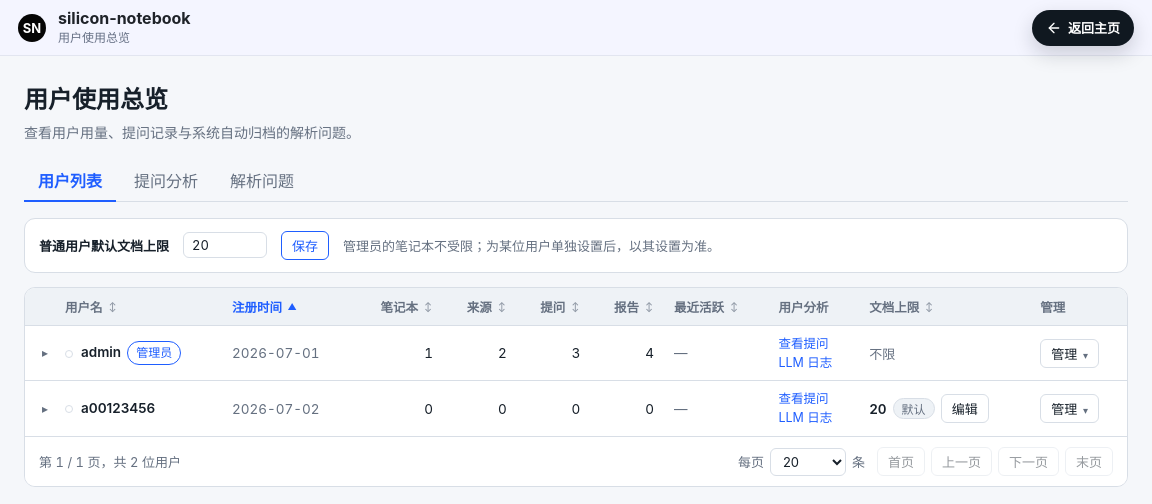
it: 管理员可保存普通用户默认文档上限
Expected: the text "a00123456" is shown, [81,400,155,416]
Replace the text in the number field labelled "普通用户默认文档上限" with "35" at [225, 245], box [183,232,267,258]
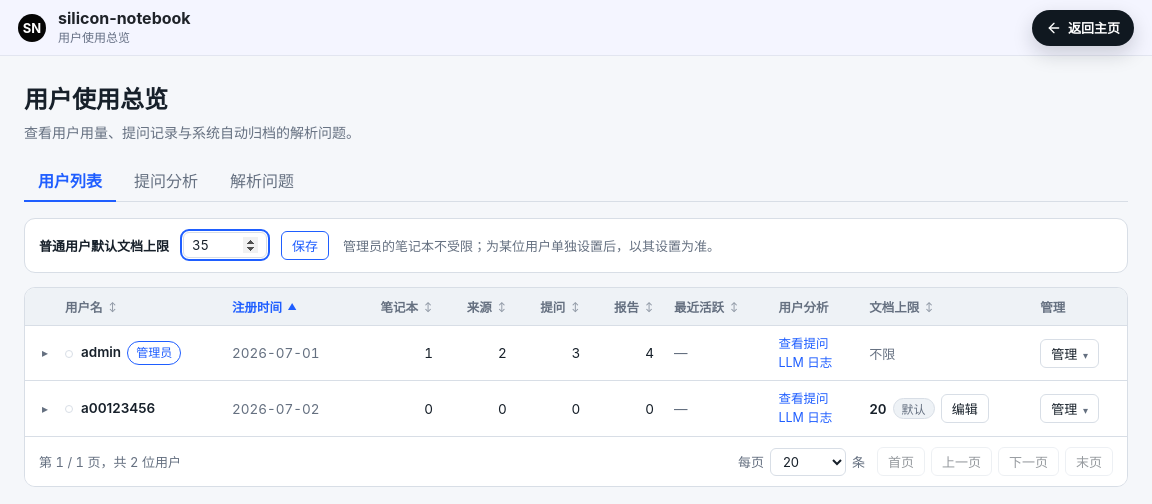
# 无行处于编辑态时,页面上唯一的「保存」就是默认上限控件。
Click the button "保存" at [305, 245], box [281,231,329,260]
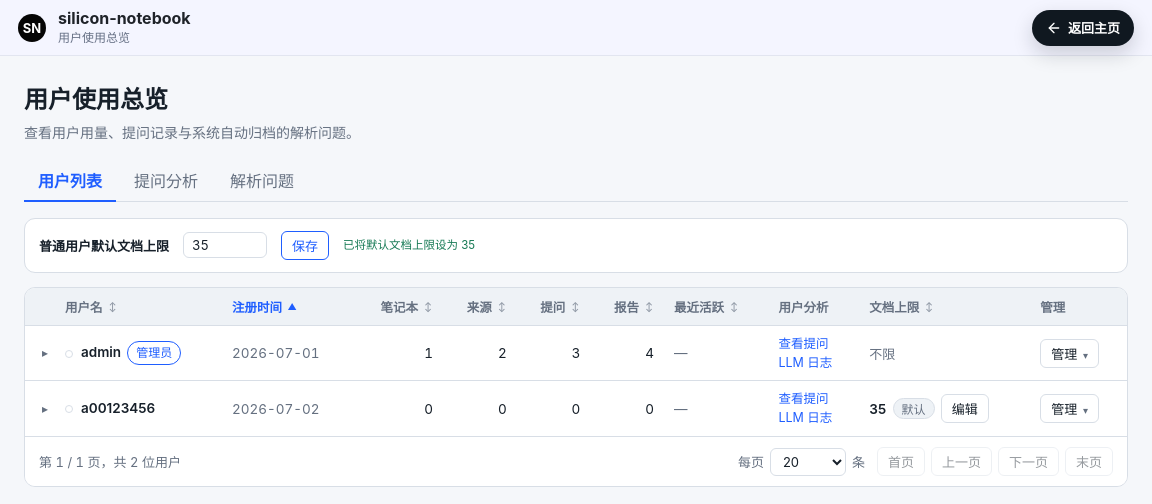
Result: the text "已将默认文档上限设为 35" is shown at [343,237,493,253]
